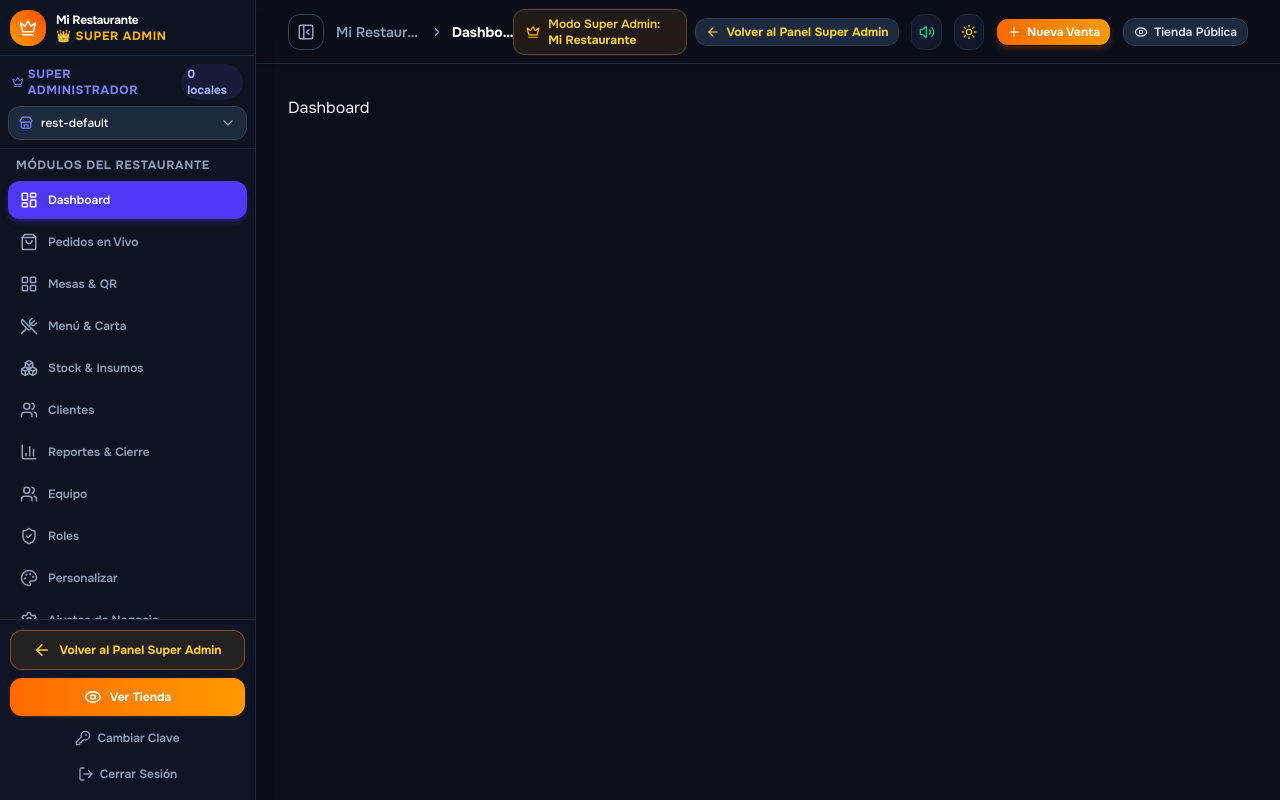
Test case: AdminLayout - Super Admin Navigation & Global Modules (TDD) › renders Cambiar Clave button in sidebar and opens voluntary ChangePasswordScreen modal
Expected: the text "Actualizar Contraseña" is not shown
# Click button to open modal
Step 1. Click the button with aria-label "Cambiar Contraseña" → [128, 738], box [10,724,245,752]
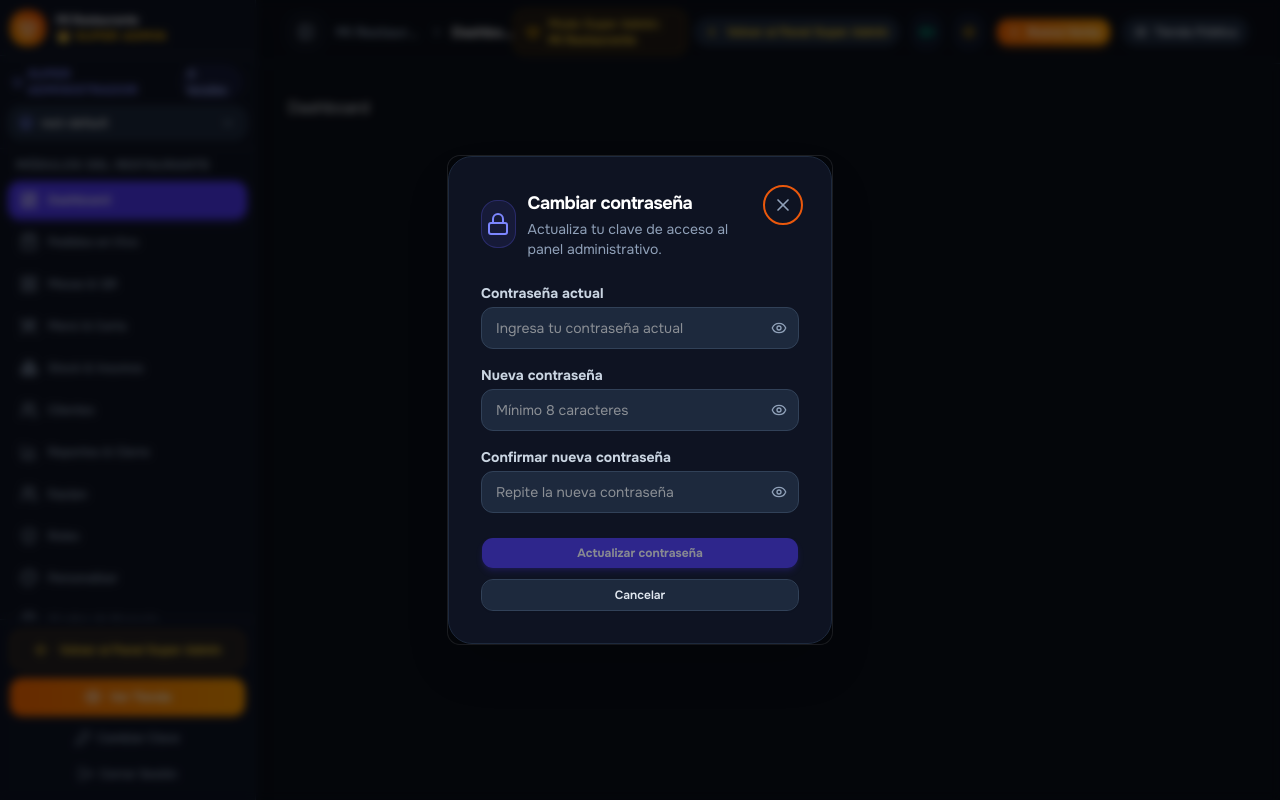
Now the text "Actualizar contraseña" is shown, box [577,545,703,561]
Now the button "Cancelar" is shown, box [481,579,799,611]
